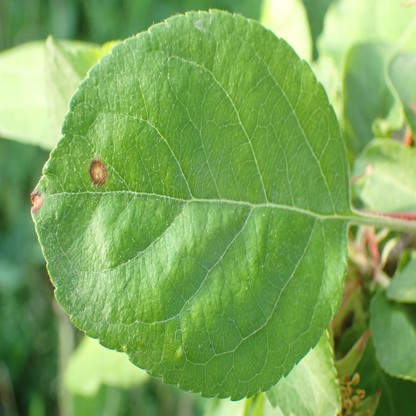frogeye_leaf_spot: (90, 161, 106, 186), (31, 190, 43, 213)
